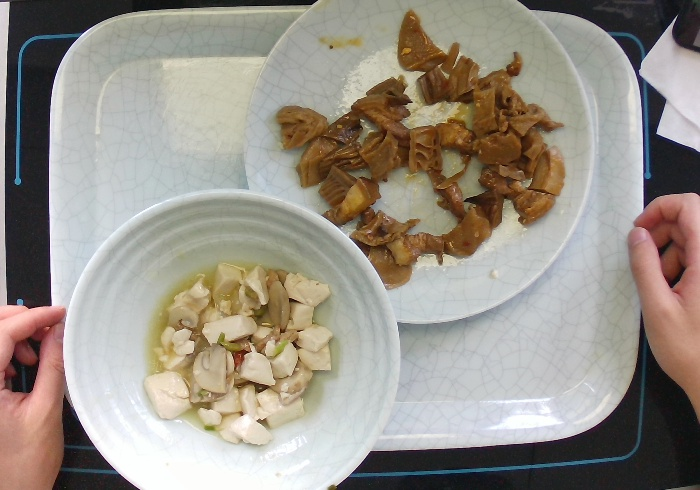JYsf-Da_Tang_Wan: (59, 184, 406, 490)
JYsf-Da_Yuan_Pan: (239, 1, 598, 328)
